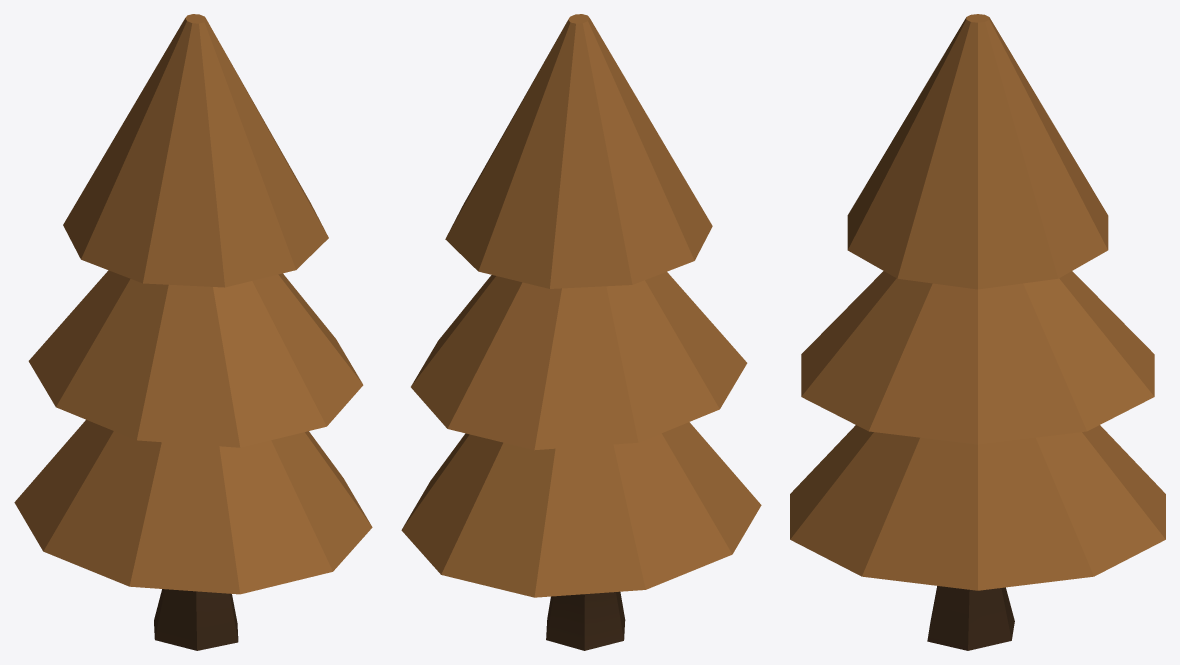
Rendered from arbol_naranja.fbx.
The picture shows the model from 3 angles, left to right: view 1: azimuth 30°, elevation 25°; view 2: azimuth 150°, elevation 25°; view 3: azimuth 270°, elevation 25°; orthographic projection.
Parts seen in each view (by area): view 1: copa_arbol4, tronco4; view 2: copa_arbol4, tronco4; view 3: copa_arbol4, tronco4.
Boxes of the visible parts, box(x1,y1,x2,y2) form: copa_arbol4: box(14, 14, 372, 594); tronco4: box(154, 589, 238, 650); copa_arbol4: box(401, 14, 761, 597); tronco4: box(546, 591, 625, 650); copa_arbol4: box(790, 14, 1165, 590); tronco4: box(927, 586, 1014, 650).
Bounding box in the file's own units: 7.99 × 15.49 × 8.58.
